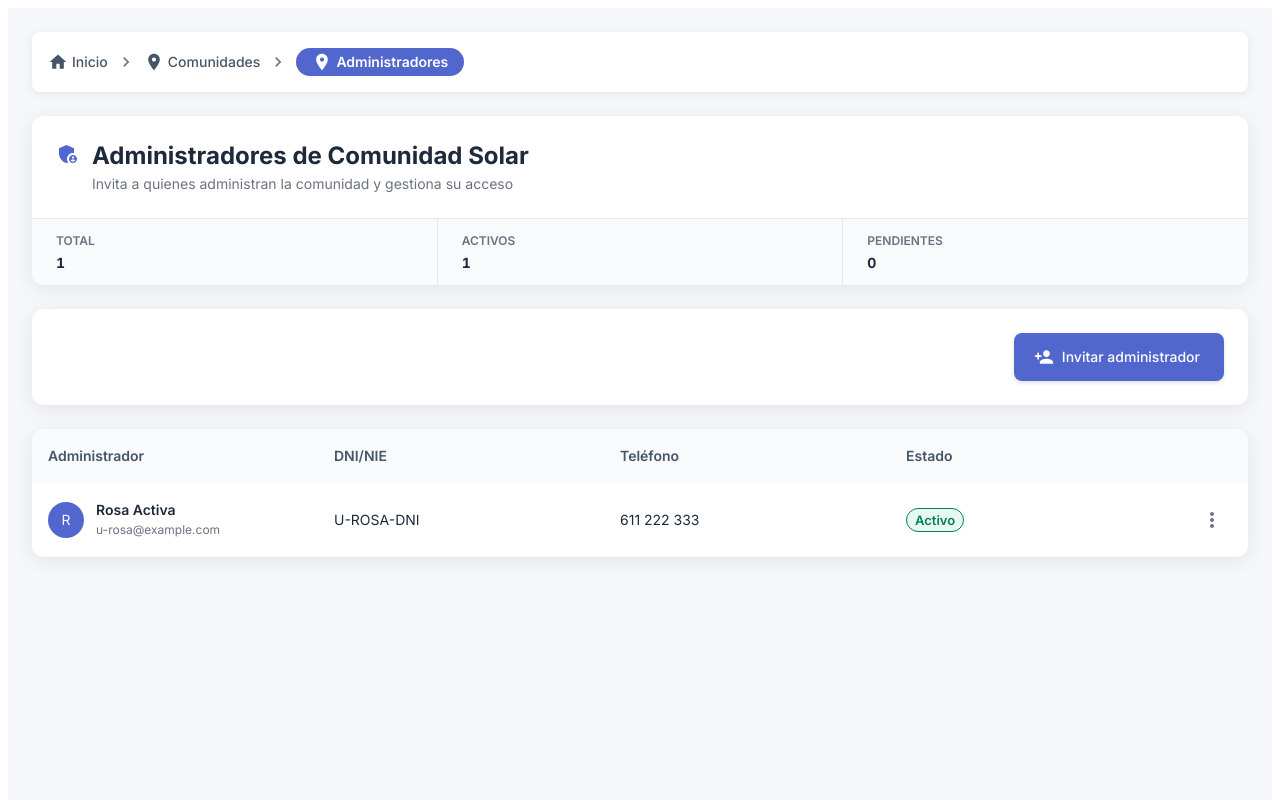
the row actions › UI-ADM-005 sends nothing when the confirmation is dismissed
Expected: the text "Rosa Activa" is shown, [96, 501, 176, 518]
Click the button named "Más acciones para Rosa Activa". click: (1212, 520)
box: [1195, 503, 1229, 537]
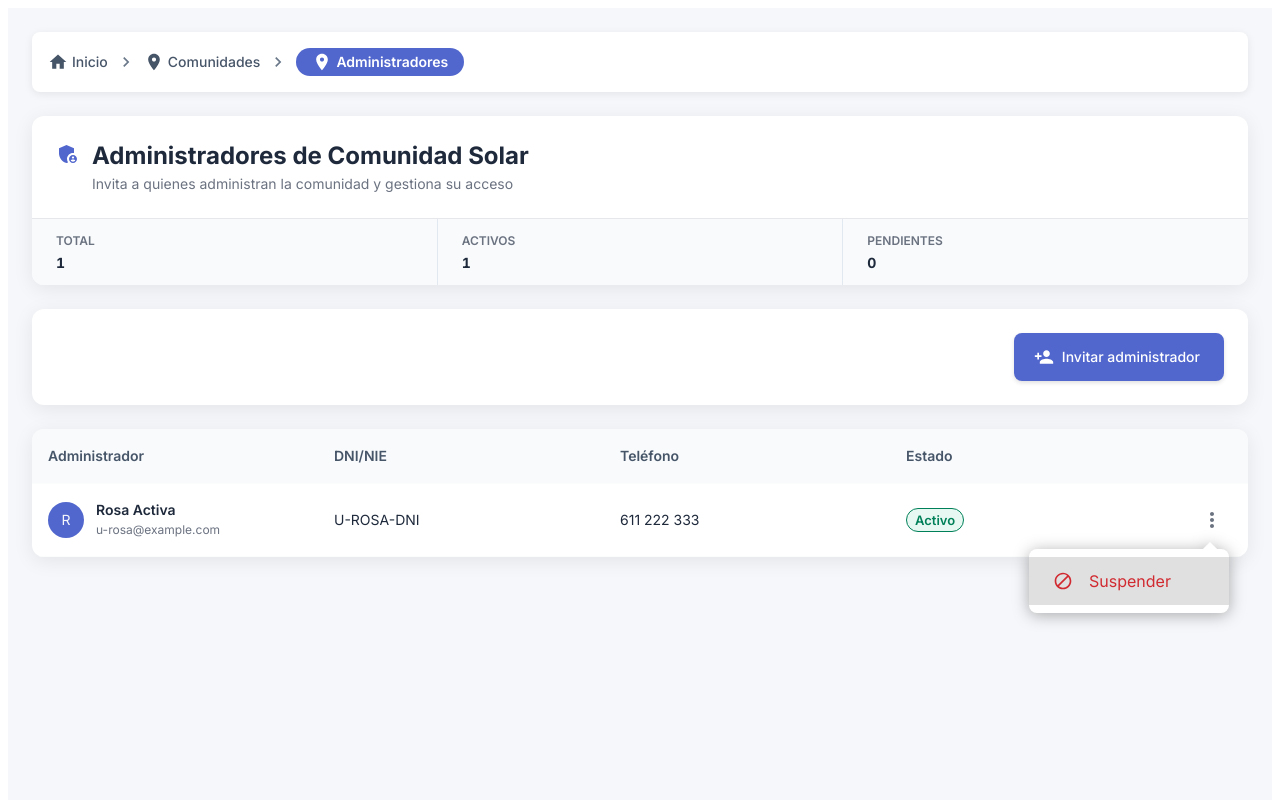
Click the menu item "Suspender". click: (1129, 581)
box: [1029, 557, 1229, 605]
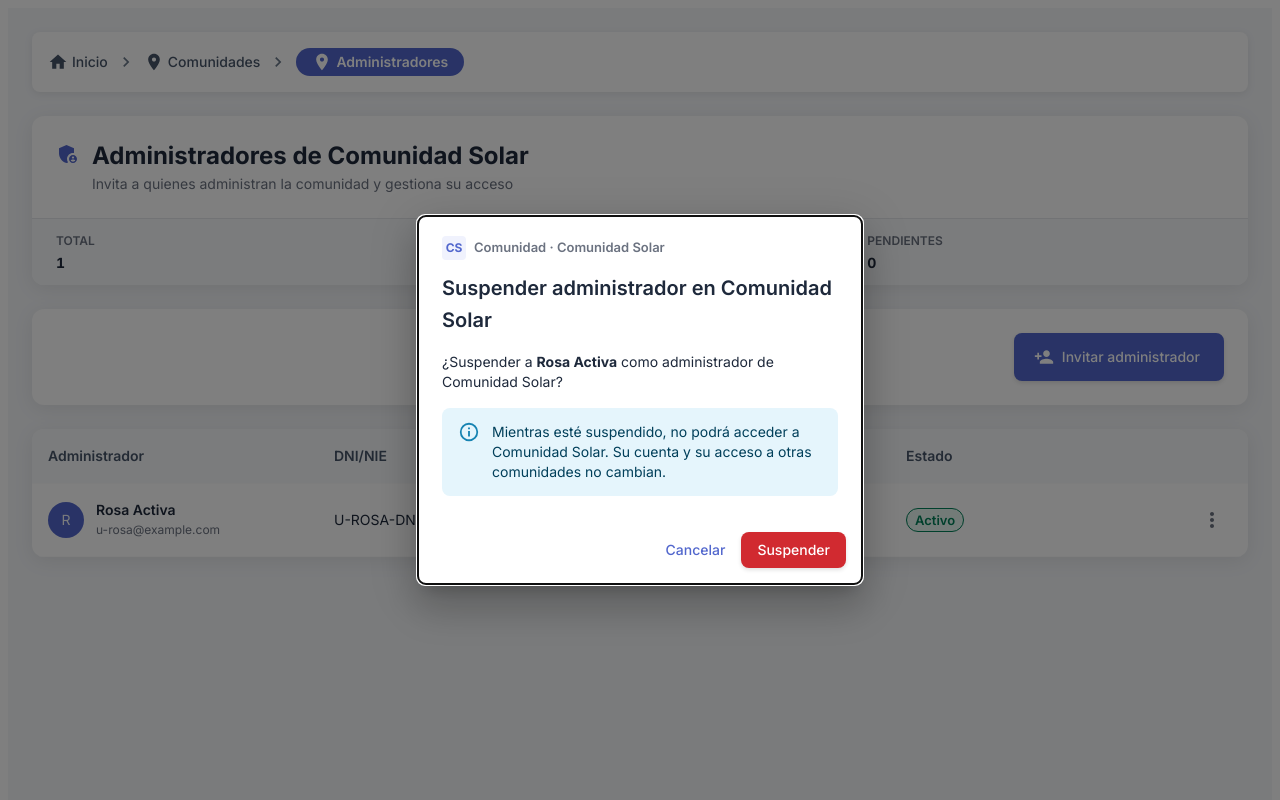
Click the button "Cancelar". click: (695, 550)
box: [658, 532, 733, 568]
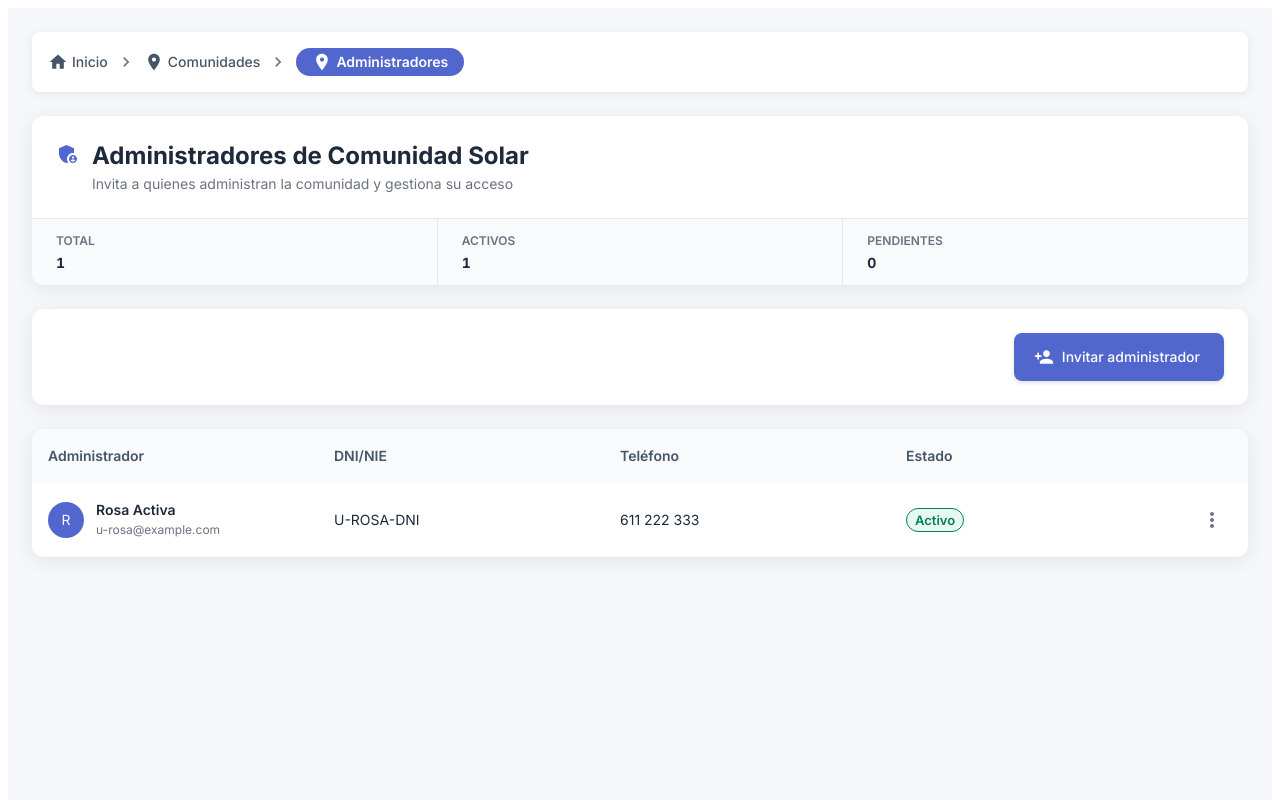
Now the dialog is gone
